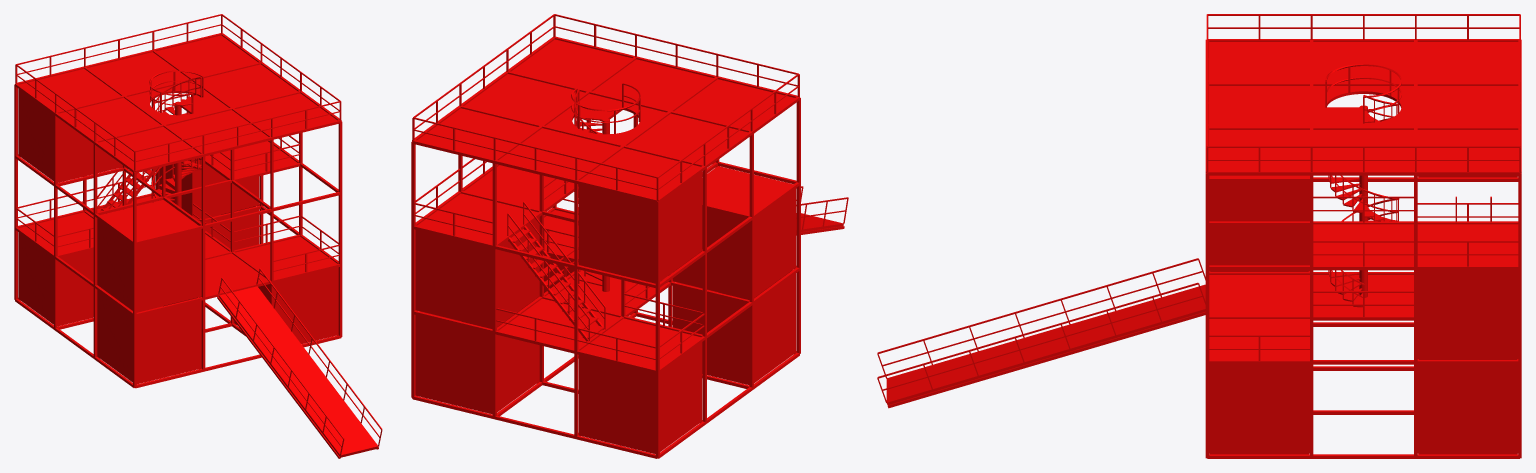
File: folie-compound.glb
3 renders of one model, left to right at view 1: azimuth 30°, elevation 25°; view 2: azimuth 150°, elevation 25°; view 3: azimuth 270°, elevation 25°, orthographic. The views are drawn at different scales.
Parts seen in each view (by area): view 1: folie_0_0_231, folie_0_0_61, folie_0_0_50, folie_0_0_71, folie_0_0_59, folie_0_0_48, folie_0_0_53, folie_0_0_75, folie_0_0_167, folie_0_0_170, folie_0_0_55, folie_0_0_169 (+45 smaller); view 2: folie_0_0_84, folie_0_0_56, folie_0_0_67, folie_0_0_78, folie_0_0_62, folie_0_0_51, folie_0_0_59, folie_0_0_48, folie_0_0_53, folie_0_0_75, folie_0_0_165, folie_0_0_167 (+42 smaller); view 3: folie_0_0_70, folie_0_0_65, folie_0_0_82, folie_0_0_231, folie_0_0_49, folie_0_0_168, folie_0_0_169, folie_0_0_86, folie_0_0_163, folie_0_0_164, folie_0_0_137, folie_0_0_136 (+26 smaller).
Part boxes in pixels (x1,y1,x2,y2): folie_0_0_231: (218,286,378,457); folie_0_0_61: (136,301,201,383); folie_0_0_50: (136,229,201,312); folie_0_0_71: (273,267,338,343); folie_0_0_59: (97,290,132,382); folie_0_0_48: (97,218,132,310); folie_0_0_53: (18,232,53,324); folie_0_0_75: (18,89,53,180); folie_0_0_167: (196,64,297,106); folie_0_0_170: (156,35,257,78); folie_0_0_55: (57,250,93,325); folie_0_0_169: (88,52,189,94); folie_0_0_84: (416,315,492,413); folie_0_0_56: (579,355,655,453); folie_0_0_67: (416,230,492,328); folie_0_0_78: (579,184,655,283); folie_0_0_62: (673,286,749,384); folie_0_0_51: (673,208,749,299); folie_0_0_59: (754,273,796,382); folie_0_0_48: (754,188,796,297); folie_0_0_53: (660,342,702,451); folie_0_0_75: (660,172,702,281); folie_0_0_165: (511,39,631,90); folie_0_0_167: (464,74,584,124); folie_0_0_70: (1209,364,1309,453); folie_0_0_65: (1418,270,1517,359); folie_0_0_82: (1418,364,1517,453); folie_0_0_231: (886,284,1205,404); folie_0_0_49: (1209,182,1309,271); folie_0_0_168: (1417,42,1518,82); folie_0_0_169: (1417,86,1518,126); folie_0_0_86: (1209,275,1309,315); folie_0_0_163: (1209,42,1309,82); folie_0_0_164: (1209,86,1309,126); folie_0_0_137: (1417,224,1518,270); folie_0_0_136: (1313,224,1413,270).
Size of the model in its own units: 10.92 by 12.03 by 22.27.
